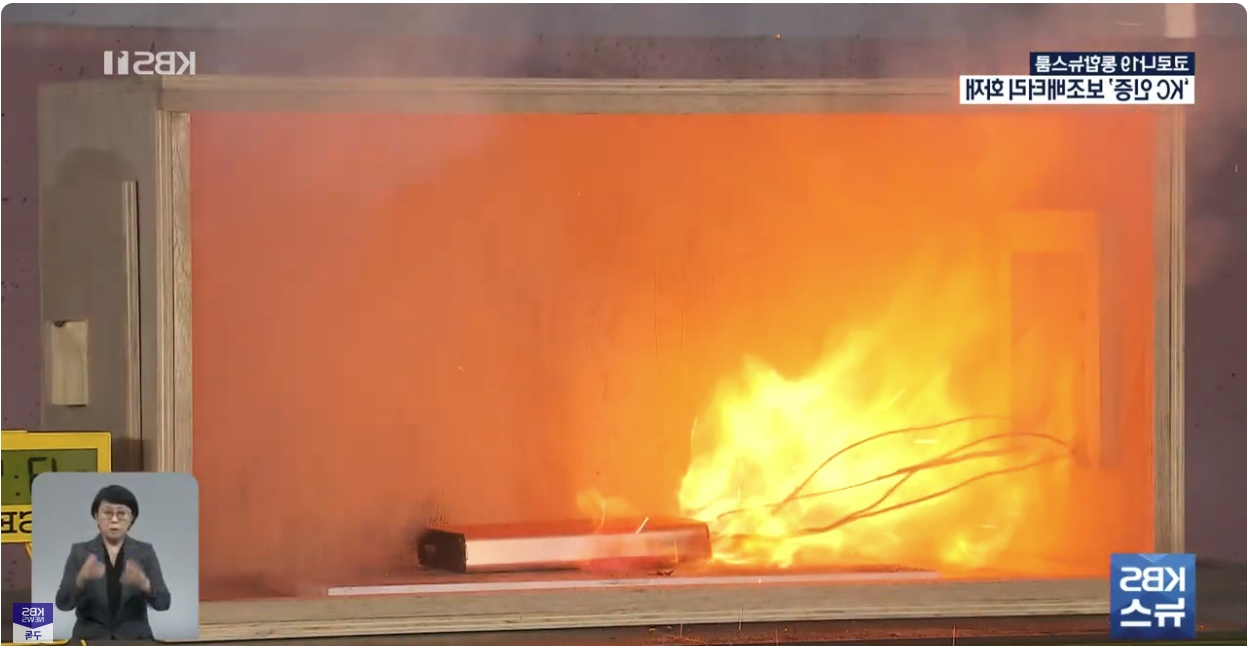fire: (664, 226, 1064, 560)
